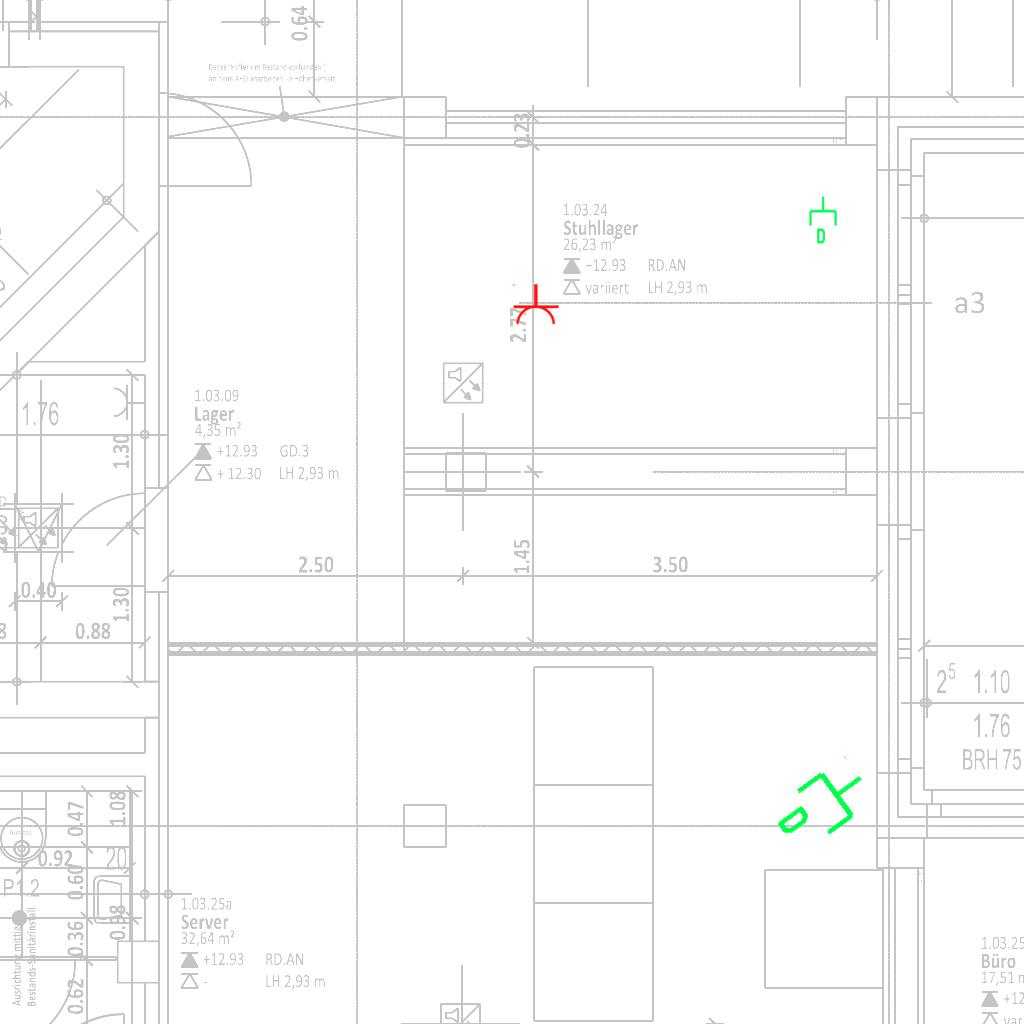Datenanschluss_einfach: (762, 749, 885, 865), (807, 195, 841, 245)
Schukosteckdose_einfach: (510, 283, 560, 326)
